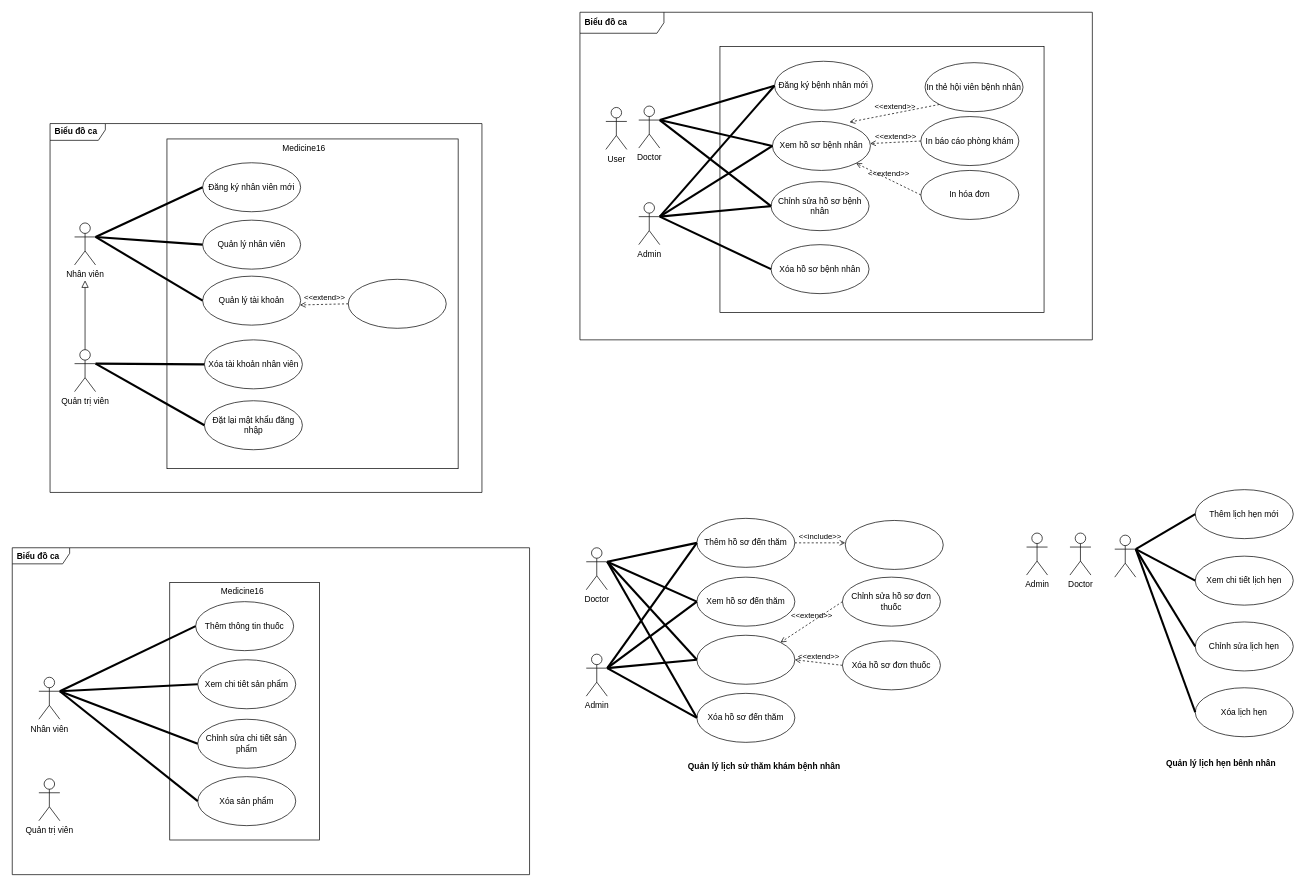
This 1306x887 diagram has some shape labels left out. Here are the shapes that lost their labels. From the top down, the centre of each, then its label:
(x=397, y=303): Thay đổi mật khẩu
(x=894, y=544): Thêm hồ sơ đơn thuốc
(x=1125, y=555): Staff
(x=745, y=659): Chỉnh sửa hồ sơ đến thăm
